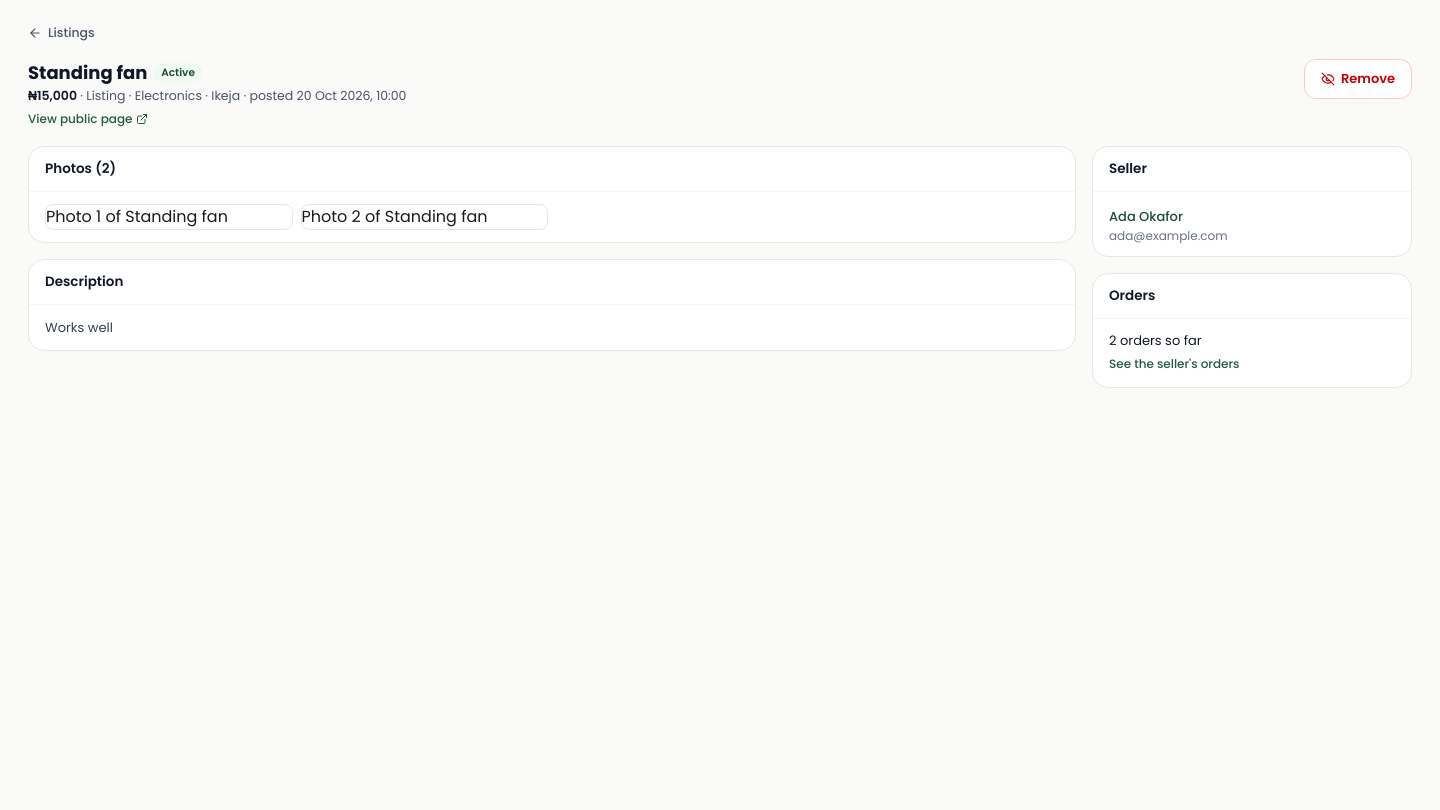
Scenario: AdminListingPage › needs a reason, then removes it
Click the button "Remove" at (1358, 79), box [1304,59,1412,99]
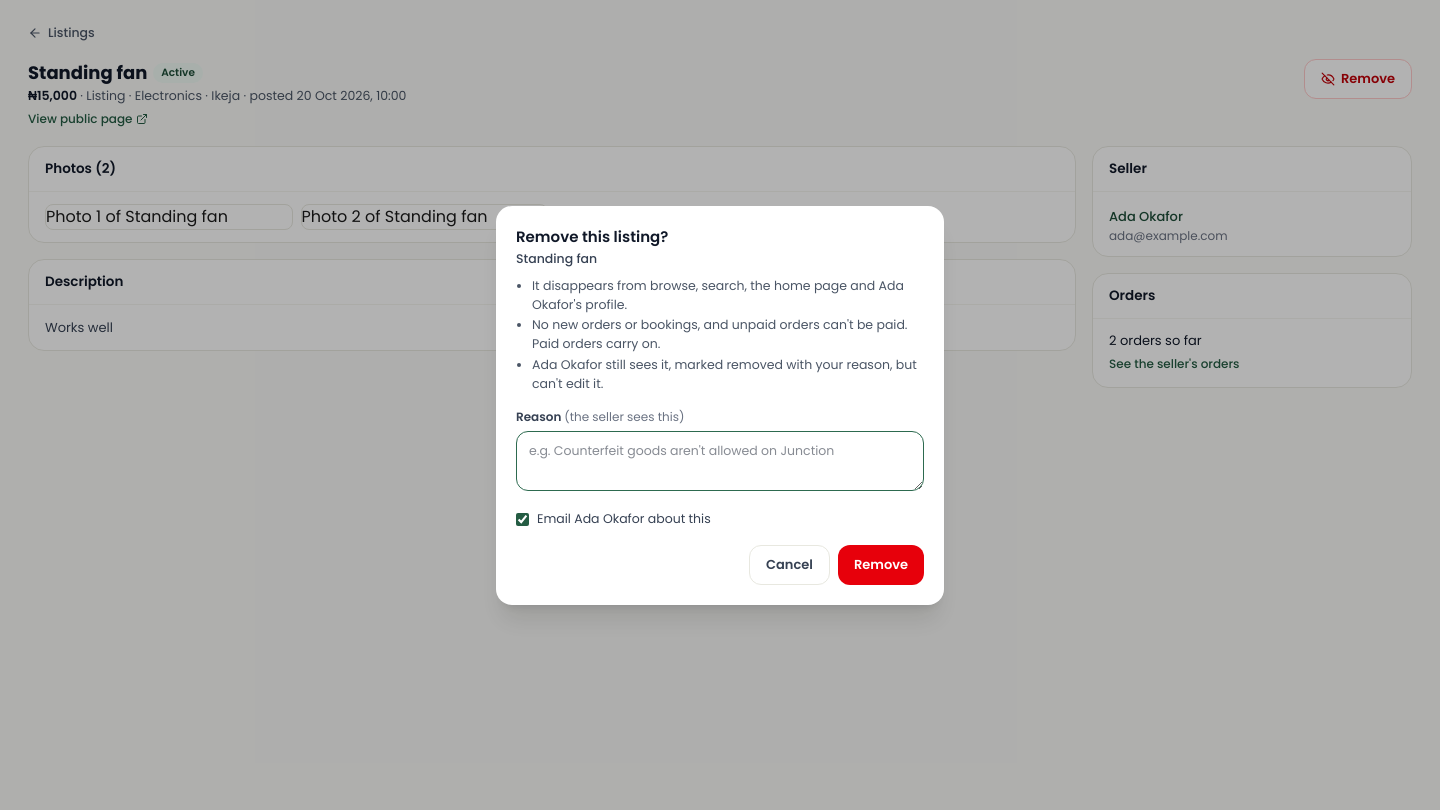
Click the button "Remove" at (881, 564), box [838,544,924,584]
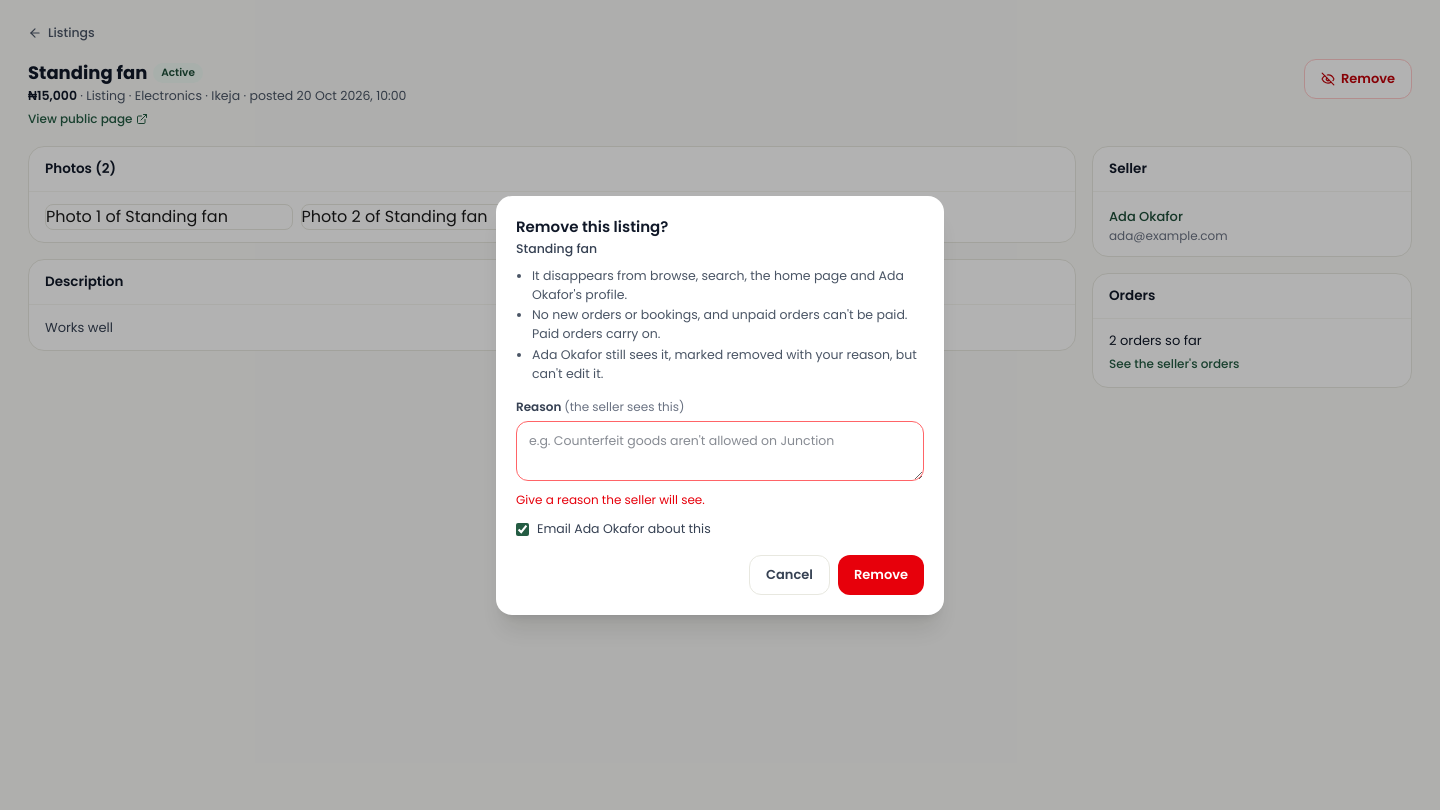
Now the text "Give a reason the seller will see." is shown, box [516,491,705,508]
Type "Counterfeit" into the text box labelled "Reason (the seller sees this)" at (720, 451), box [516,421,924,481]
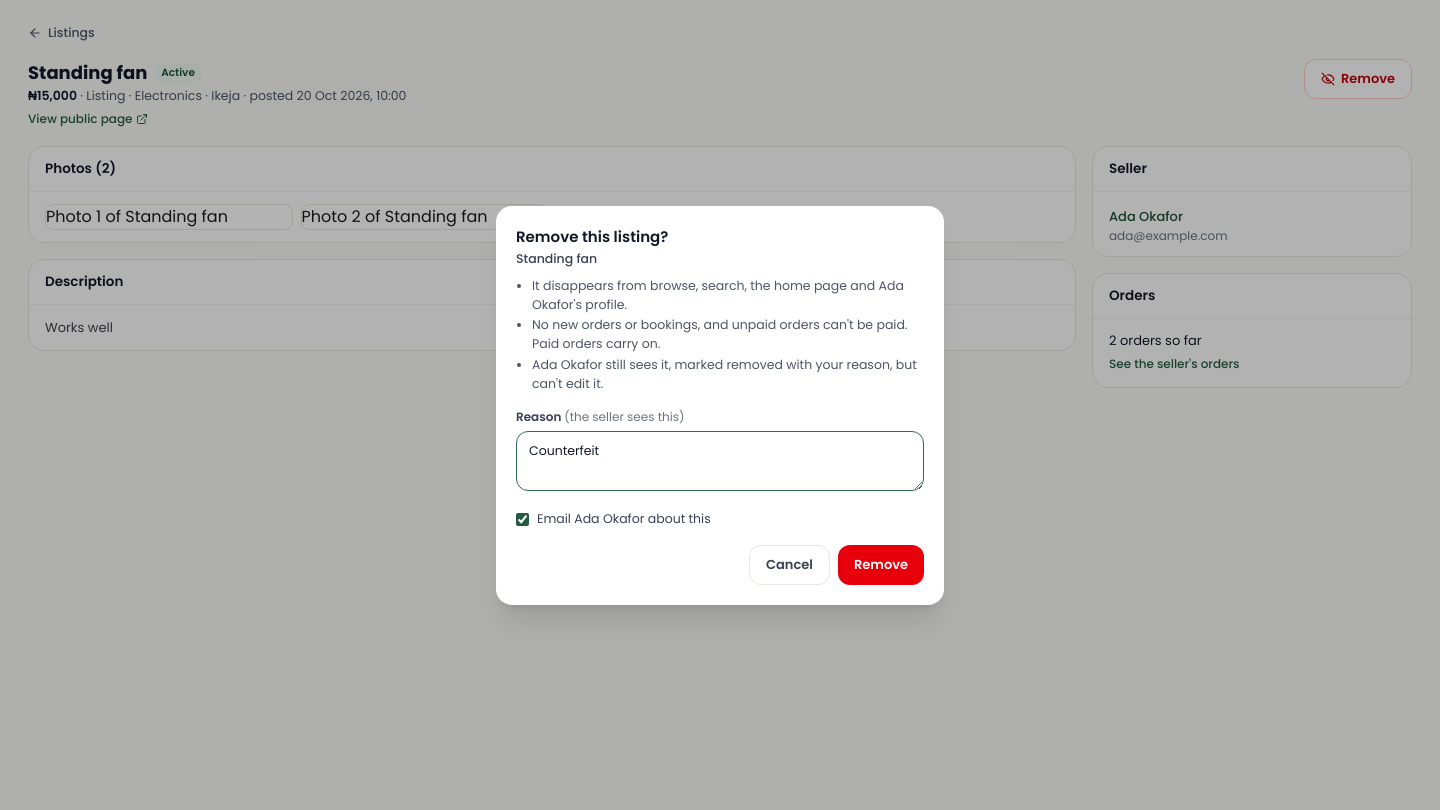
Click the button "Remove" at (881, 564), box [838,544,924,584]
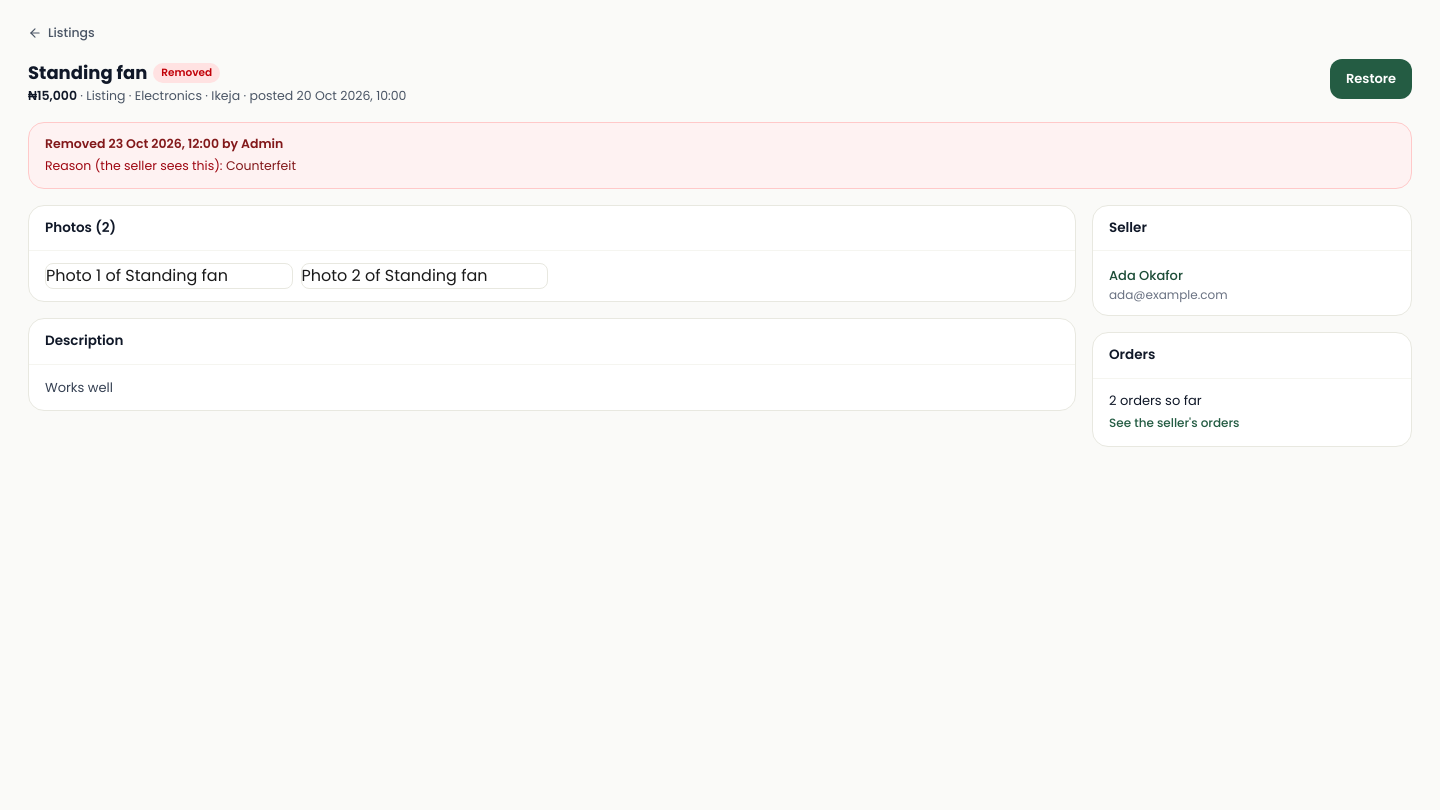
Now the text "Reason (the seller sees this): Counterfeit" is shown, box [45,157,296,174]
Now the link "View public page" is gone
